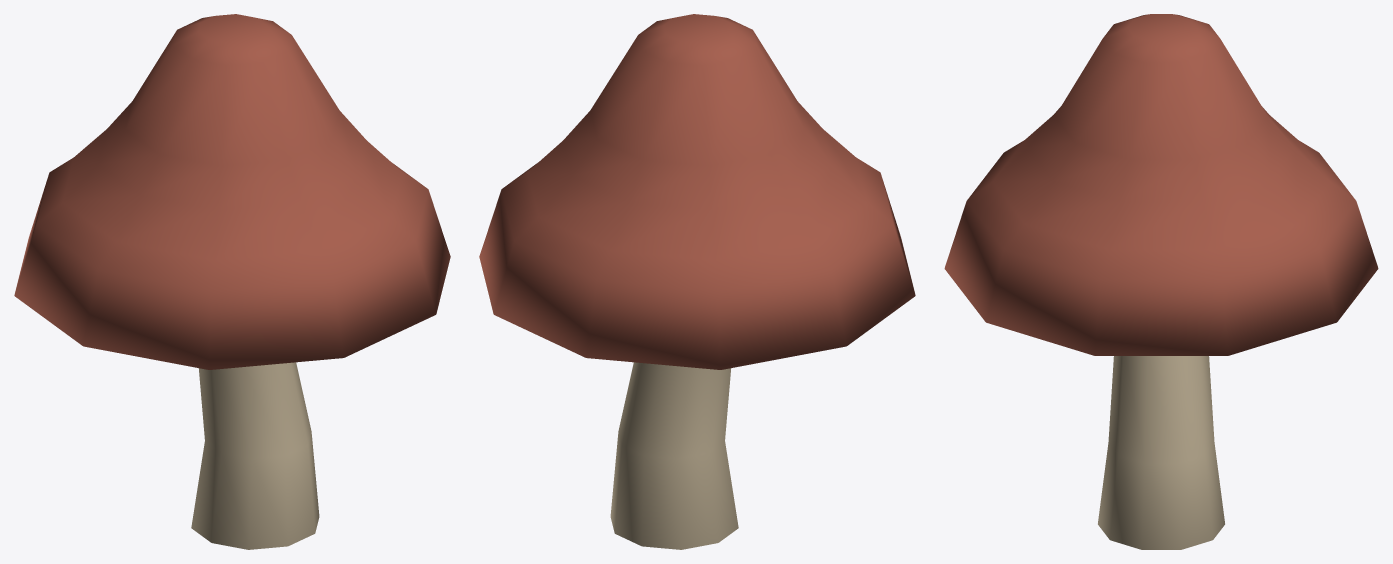
File: Mushroom_LightBrown_Cone_1.fbx
The picture shows the model from 3 angles, left to right: view 1: azimuth 30°, elevation 25°; view 2: azimuth 150°, elevation 25°; view 3: azimuth 270°, elevation 25°; orthographic projection. The views are drawn at different scales.
Parts seen in each view (by area): view 1: Cylinder.287, Cylinder.288; view 2: Cylinder.287, Cylinder.288; view 3: Cylinder.287, Cylinder.288.
Part boxes in pixels (box(x1,y1,x2,y2)): Cylinder.287: box(14, 14, 450, 369); Cylinder.288: box(191, 362, 319, 549); Cylinder.287: box(479, 14, 915, 369); Cylinder.288: box(610, 362, 738, 549); Cylinder.287: box(944, 14, 1378, 355); Cylinder.288: box(1098, 356, 1224, 549).
Size of the model in its own units: 72.61 by 94.29 by 76.34.
